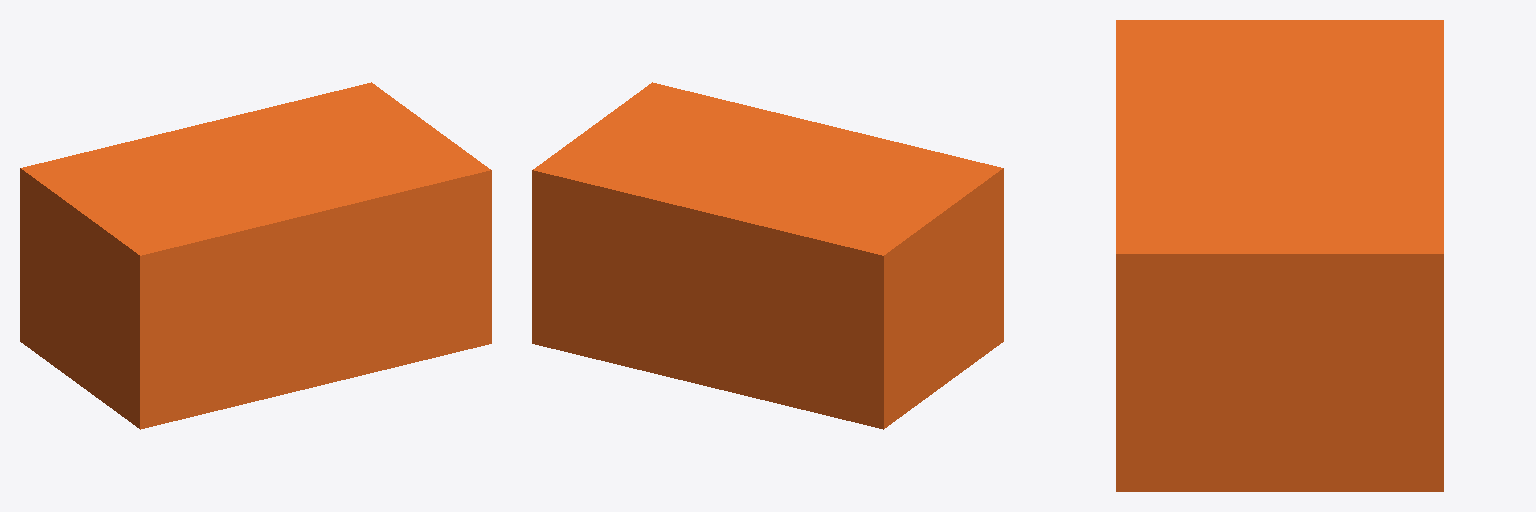
URDF robot description (hospital_robot):
<?xml version="1.0"?>
<robot name = "hospital_robot">

  <material name="orange">
    <color rgba="1.0 0.5 0.2 1" />
  </material>
  <material name="gray">
    <color rgba="0.2 0.2 0.2 1" />
  </material>
  
  
  <link name="base_footprint" />

  <joint name="base_joint" type="fixed">
    <parent link="base_footprint"/>
    <child link="base_link" />
    <origin xyz="0.105 0 0 " rpy="0 0 0.0"/>
  </joint>

  <!--<link name="imu_link" />-->
  <link name="base_scan" />
  

  <link name="base_link">
    <visual>
      <origin xyz="0.01 0 0.015" />
      <geometry>
        <box size="0.11 0.065 0.052" />
      </geometry>
      <material name="orange" />
    </visual>
  </link>

  <!--<joint name="imu_joint" type="fixed">
    <parent link="base_link"/>
    <child link="imu_link" />
    <origin xyz="0 0 0 " rpy="0 0 0.0"/>
  </joint>-->
  
  <joint name="laser_joint" type="fixed">
    <parent link="base_link"/>
    <child link="base_scan" />
    <origin xyz="0 0 0.426 " rpy="0 0 0.0"/>
  </joint>


</robot>

--- Render facts (derived) ---
Views: 3 orthographic renders of the robot side by side, from view 1: azimuth 30°, elevation 25°; view 2: azimuth 150°, elevation 25°; view 3: azimuth 270°, elevation 25°.
Robot: hospital_robot — 3 links, 2 joints (2 fixed); root link base_footprint; default pose: all joints at 0.
Links seen in each view (by area): view 1: base_link; view 2: base_link; view 3: base_link.
Link boxes in pixels (<box>): base_link: <box>20,82,491,429</box>; base_link: <box>532,82,1003,429</box>; base_link: <box>1116,20,1443,491</box>.
Size in the robot's own frame: 0.11 by 0.065 by 0.052 metres.
Geometry: primitives only (box / cylinder / sphere), no mesh files.
